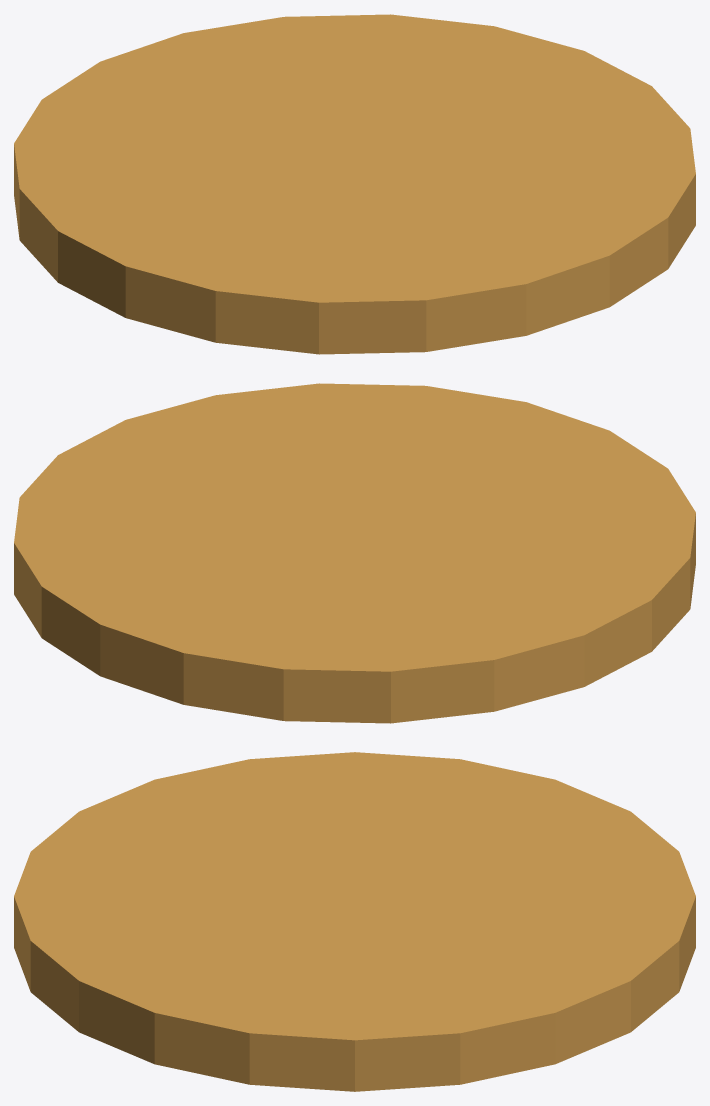
The model's file is Frantic_Robo.glb.
3 views of the same model, one above another, from view 1: azimuth 30°, elevation 25°; view 2: azimuth 150°, elevation 25°; view 3: azimuth 270°, elevation 25° (orthographic).
Parts seen in each view (by area): view 1: Mesh_Mesh_head_geo.001_lambert2SG.001; view 2: Mesh_Mesh_head_geo.001_lambert2SG.001; view 3: Mesh_Mesh_head_geo.001_lambert2SG.001.
Part boxes in pixels (bbox=[...]): Mesh_Mesh_head_geo.001_lambert2SG.001: bbox=[14, 14, 695, 354]; Mesh_Mesh_head_geo.001_lambert2SG.001: bbox=[14, 383, 695, 723]; Mesh_Mesh_head_geo.001_lambert2SG.001: bbox=[14, 752, 695, 1091].
Size of the model in its own units: 60 by 5 by 60.
